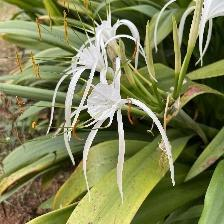spider lily: (73, 74, 171, 169)
